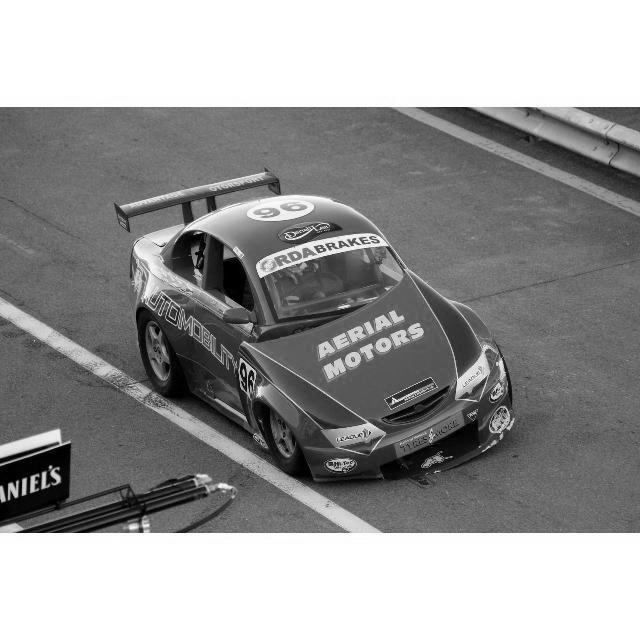front-bumper-dent: (304, 428, 516, 474)
